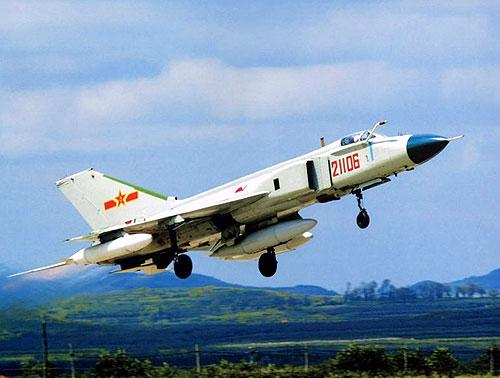airplane: (1, 116, 467, 284)
